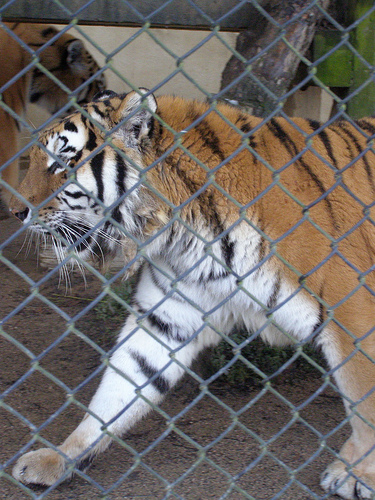Tigre: (20, 79, 371, 416)
